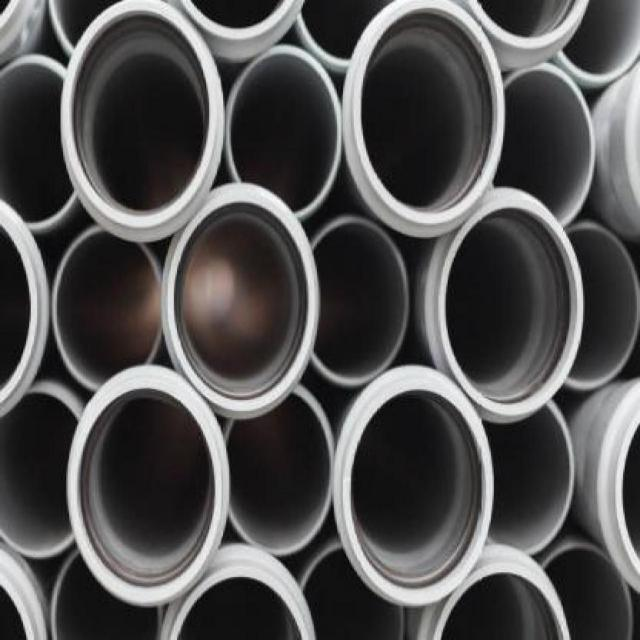pipe: (59, 2, 226, 243), (67, 365, 229, 607), (342, 2, 507, 238), (333, 366, 493, 608), (161, 181, 320, 417), (426, 190, 584, 423), (223, 383, 340, 560), (227, 47, 343, 220), (52, 228, 172, 393), (312, 217, 411, 385), (160, 544, 317, 639), (504, 66, 597, 226), (415, 545, 570, 639), (0, 387, 82, 559), (0, 55, 80, 231), (481, 401, 573, 554), (565, 222, 639, 390), (50, 545, 163, 640), (535, 540, 638, 640), (552, 0, 637, 89), (464, 2, 592, 53), (186, 2, 297, 42)
